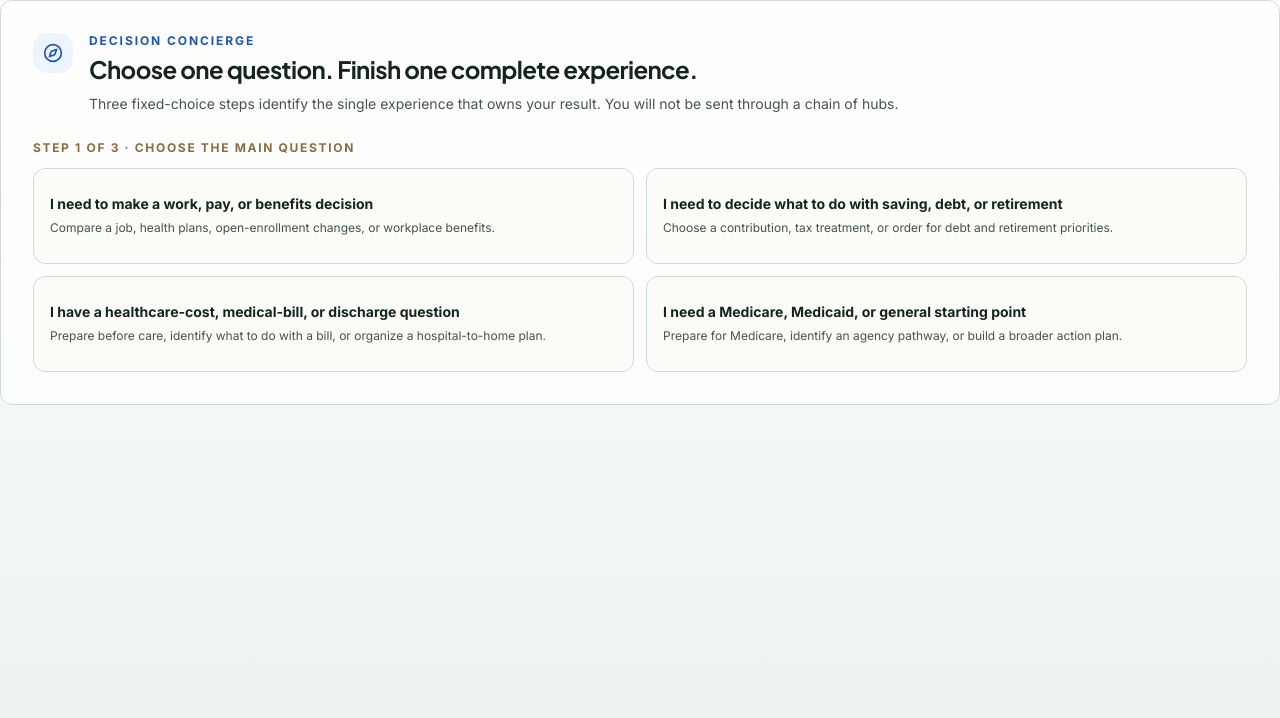
Scenario: DecisionConcierge › routes patient and caregiver help directly into the canonical hospital guide
Click the button "healthcare-cost, medical-bill, or discharge question" at x=255, y=312, box top-left (33, 276), bottom-right (634, 372)
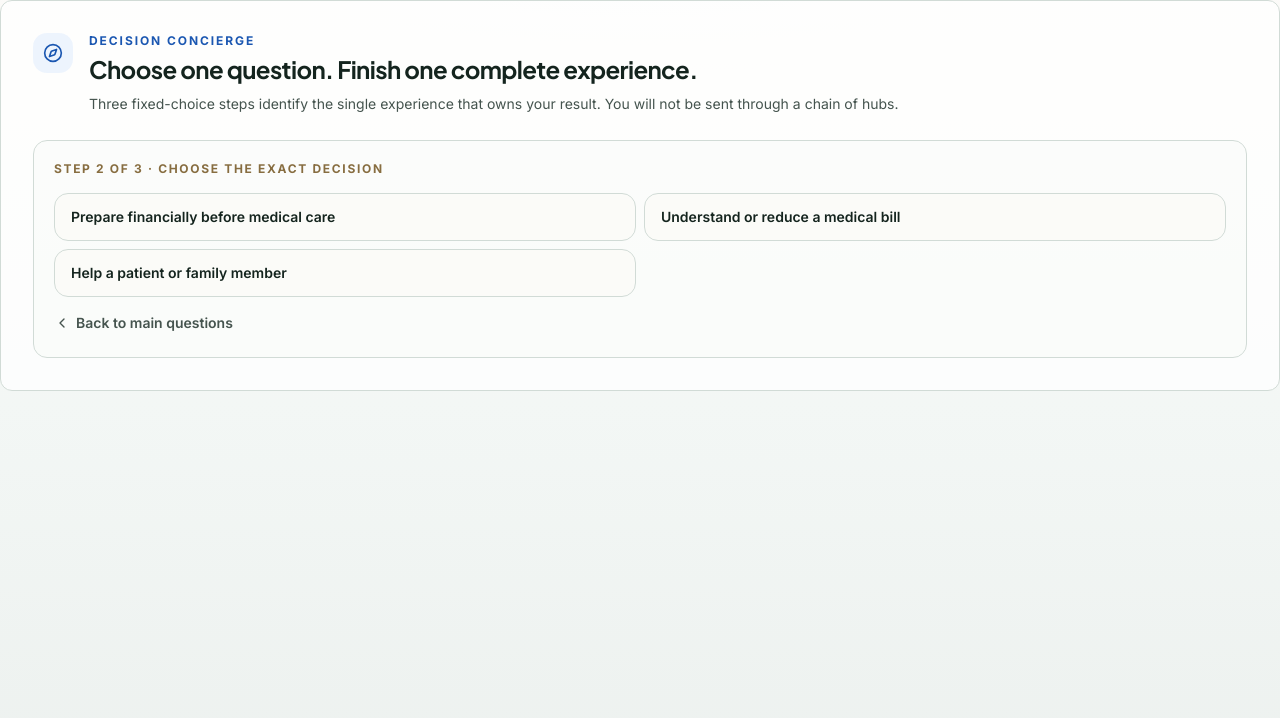
Click the button "Help a patient or family member" at x=179, y=272, box top-left (54, 249), bottom-right (636, 297)
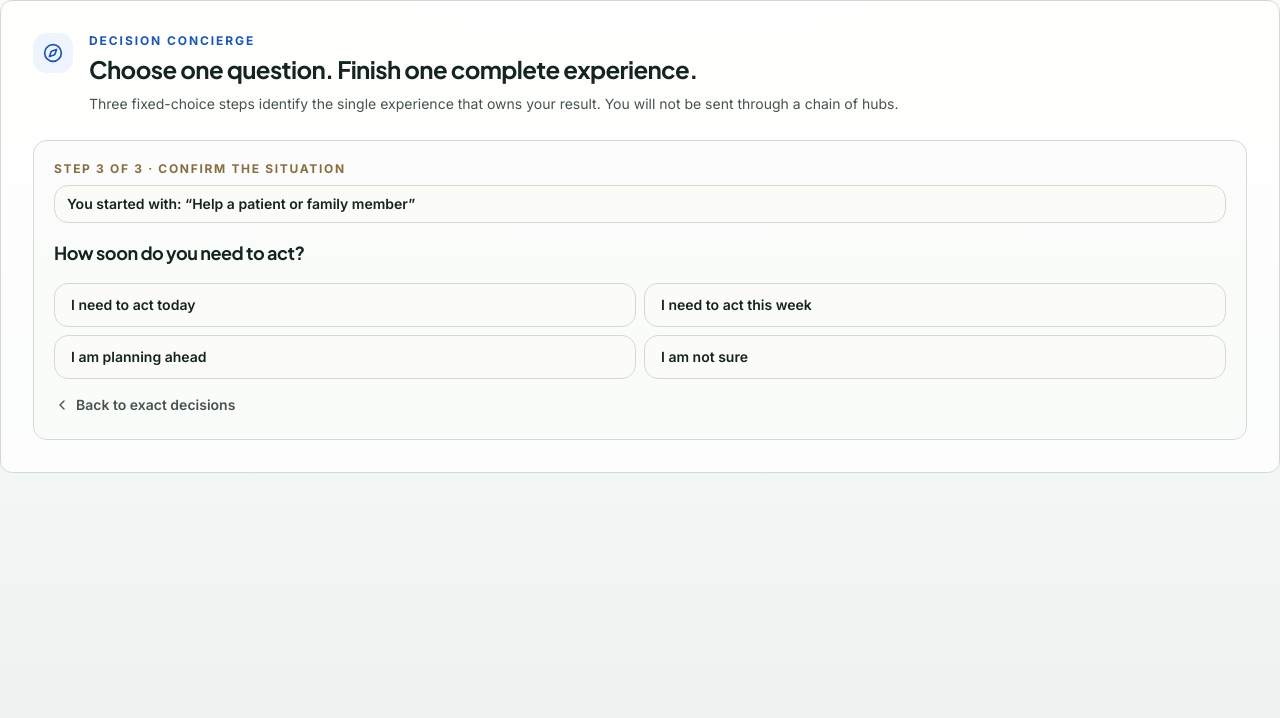
Click the button "I am planning ahead" at x=139, y=356, box top-left (54, 335), bottom-right (636, 379)
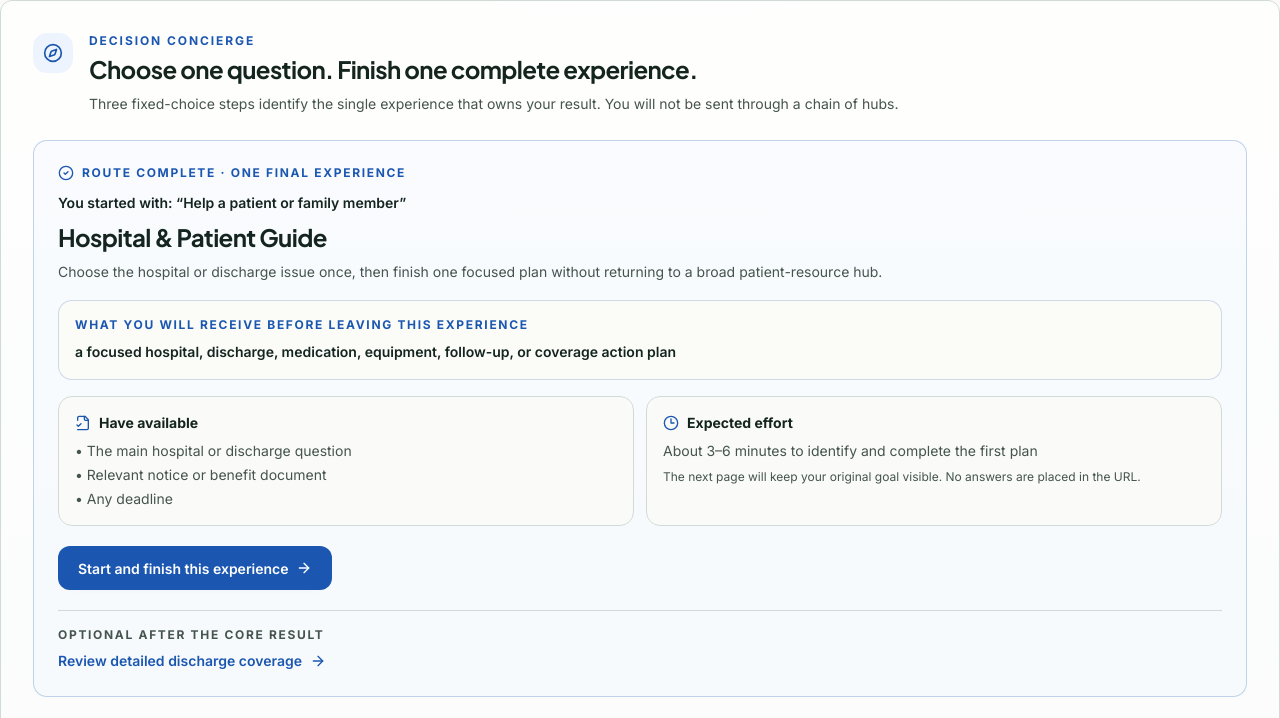
Check: the heading "Hospital & Patient Guide" is shown, box top-left (58, 222), bottom-right (327, 252)
